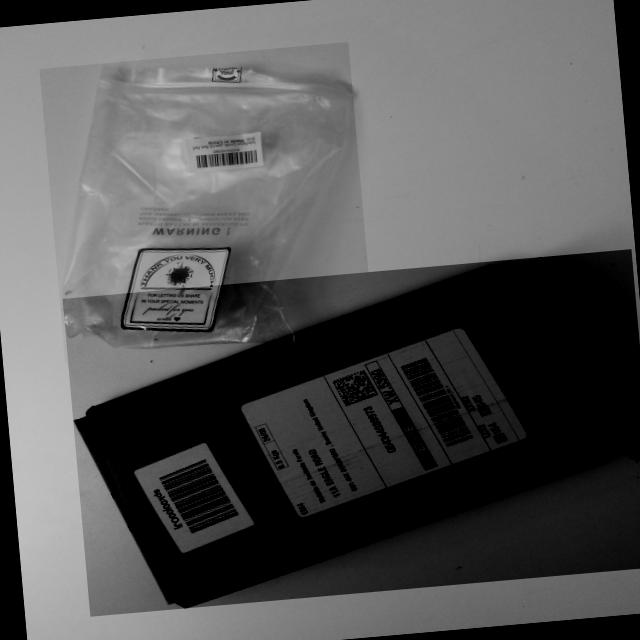Other Carton: (73, 257, 640, 608)
Plastic film: (61, 64, 353, 349)
